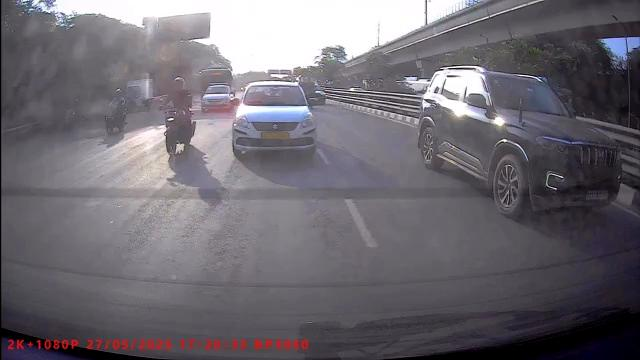motorcycle_with_helmet: (162, 75, 197, 158)
